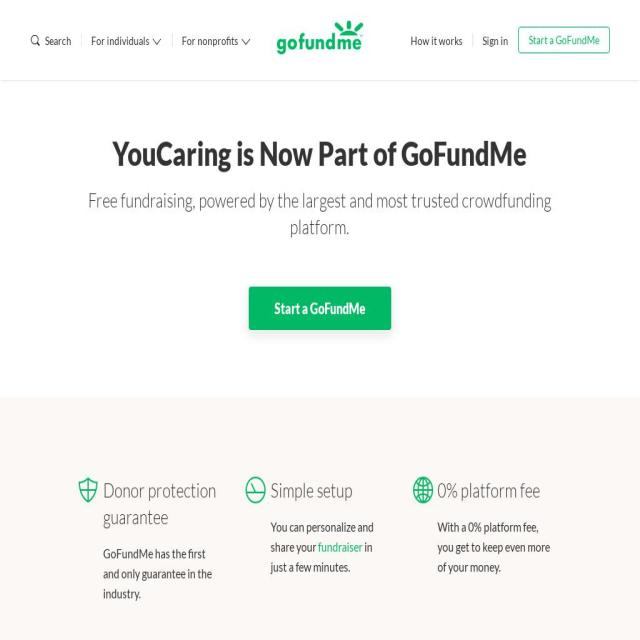button: (248, 287, 391, 330), (248, 288, 390, 329), (277, 20, 363, 60), (80, 22, 172, 58), (172, 22, 251, 58), (400, 22, 472, 58), (518, 27, 610, 53), (30, 22, 81, 58), (473, 22, 518, 58)
heading: (88, 188, 552, 239), (112, 134, 528, 174), (102, 478, 216, 529), (438, 478, 540, 502), (270, 478, 352, 502)
image: (277, 20, 363, 55), (78, 477, 99, 503), (246, 477, 266, 503), (413, 477, 433, 503), (30, 32, 41, 48), (152, 32, 162, 48), (241, 32, 251, 48)
link: (318, 538, 362, 554)
text: (102, 544, 218, 604), (437, 516, 552, 576), (270, 518, 374, 554), (270, 538, 372, 574), (529, 32, 599, 46), (90, 32, 150, 48), (182, 32, 239, 48), (410, 32, 462, 48), (483, 32, 508, 48)
